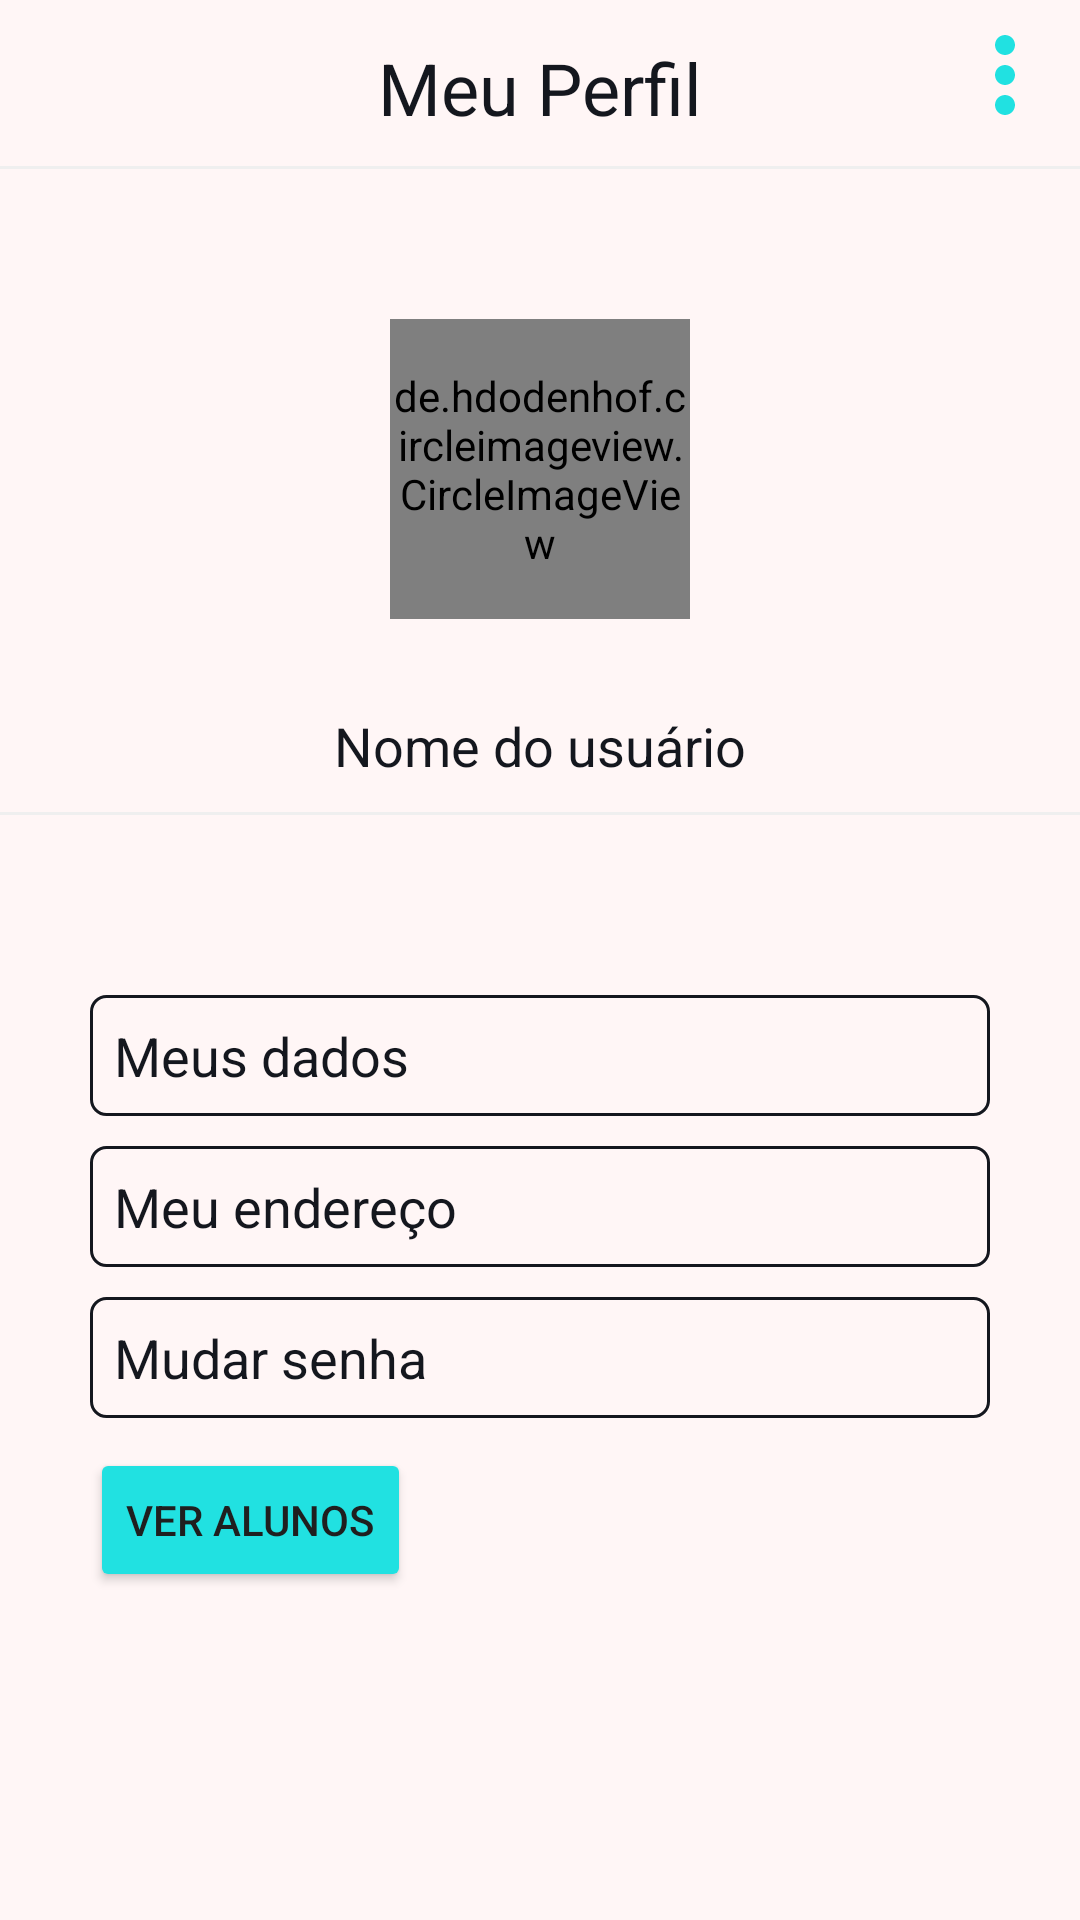

Icon click points for this 1080px x 1920px phone screenshot, format (x=x, y=y):
more: (x=1005, y=75)
